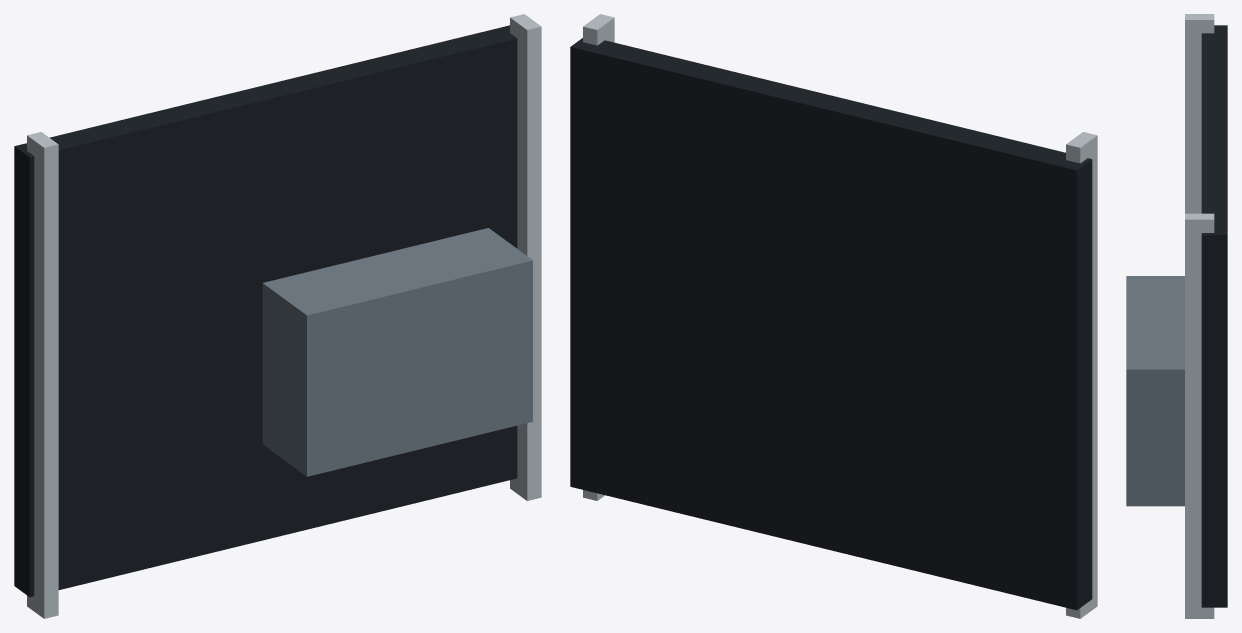
File: voyager_bus.equipment_bay_09.glb
3 views of the same model, side by side, from view 1: azimuth 30°, elevation 25°; view 2: azimuth 150°, elevation 25°; view 3: azimuth 270°, elevation 25° (orthographic). The views are drawn at different scales.
Visible parts, largest first — view 1: voyager_bus.equipment_bay_09.mesh_Carbon_composite, voyager_bus.equipment_bay_09.mesh_Machined_steel, voyager_bus.equipment_bay_09.mesh_Satin_aluminum; view 2: voyager_bus.equipment_bay_09.mesh_Carbon_composite, voyager_bus.equipment_bay_09.mesh_Satin_aluminum; view 3: voyager_bus.equipment_bay_09.mesh_Carbon_composite, voyager_bus.equipment_bay_09.mesh_Machined_steel, voyager_bus.equipment_bay_09.mesh_Satin_aluminum.
Part boxes in pixels (x1,y1,x2,y2): voyager_bus.equipment_bay_09.mesh_Carbon_composite: (14,25,517,597); voyager_bus.equipment_bay_09.mesh_Machined_steel: (262,228,532,476); voyager_bus.equipment_bay_09.mesh_Satin_aluminum: (27,14,541,618); voyager_bus.equipment_bay_09.mesh_Carbon_composite: (570,38,1092,610); voyager_bus.equipment_bay_09.mesh_Satin_aluminum: (583,14,1097,618); voyager_bus.equipment_bay_09.mesh_Carbon_composite: (1201,25,1227,607); voyager_bus.equipment_bay_09.mesh_Machined_steel: (1126,276,1184,506); voyager_bus.equipment_bay_09.mesh_Satin_aluminum: (1185,14,1214,618).
Bounding box in the file's own units: 0.493 × 0.438 × 0.101.
